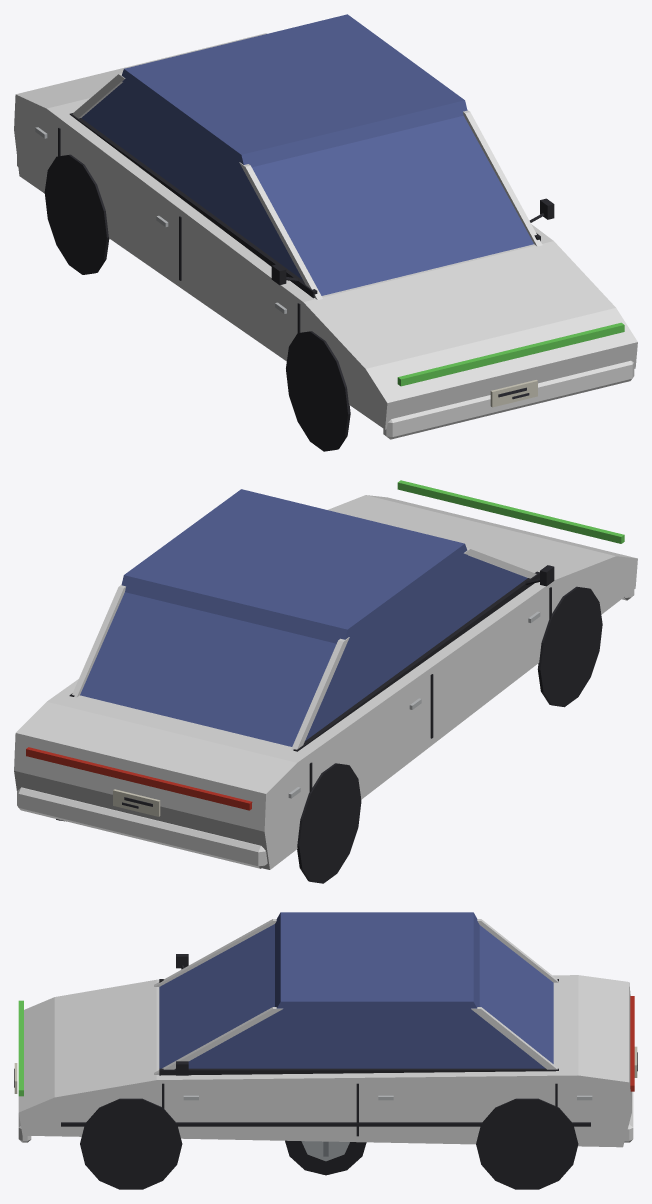
File: ev_car.glb
3 renders of one model, top to bottom at view 1: azimuth 30°, elevation 25°; view 2: azimuth 150°, elevation 25°; view 3: azimuth 270°, elevation 25°, orthographic. The views are drawn at different scales.
Parts seen in each view (by area): view 1: body, paint, lights; view 2: body, paint, lights; view 3: body, paint, wheel0, lights.
Part boxes in pixels (<box>): body: <box>35,14,554,451</box>; paint: <box>14,33,637,439</box>; lights: <box>397,322,624,386</box>; body: <box>56,489,602,883</box>; paint: <box>14,495,637,869</box>; lights: <box>26,480,624,810</box>; body: <box>14,912,637,1189</box>; paint: <box>18,919,633,1147</box>; wheel0: <box>285,1140,366,1175</box>; lights: <box>18,996,634,1096</box>.
Size of the model in its own units: 2.04 by 1.84 by 4.88.
